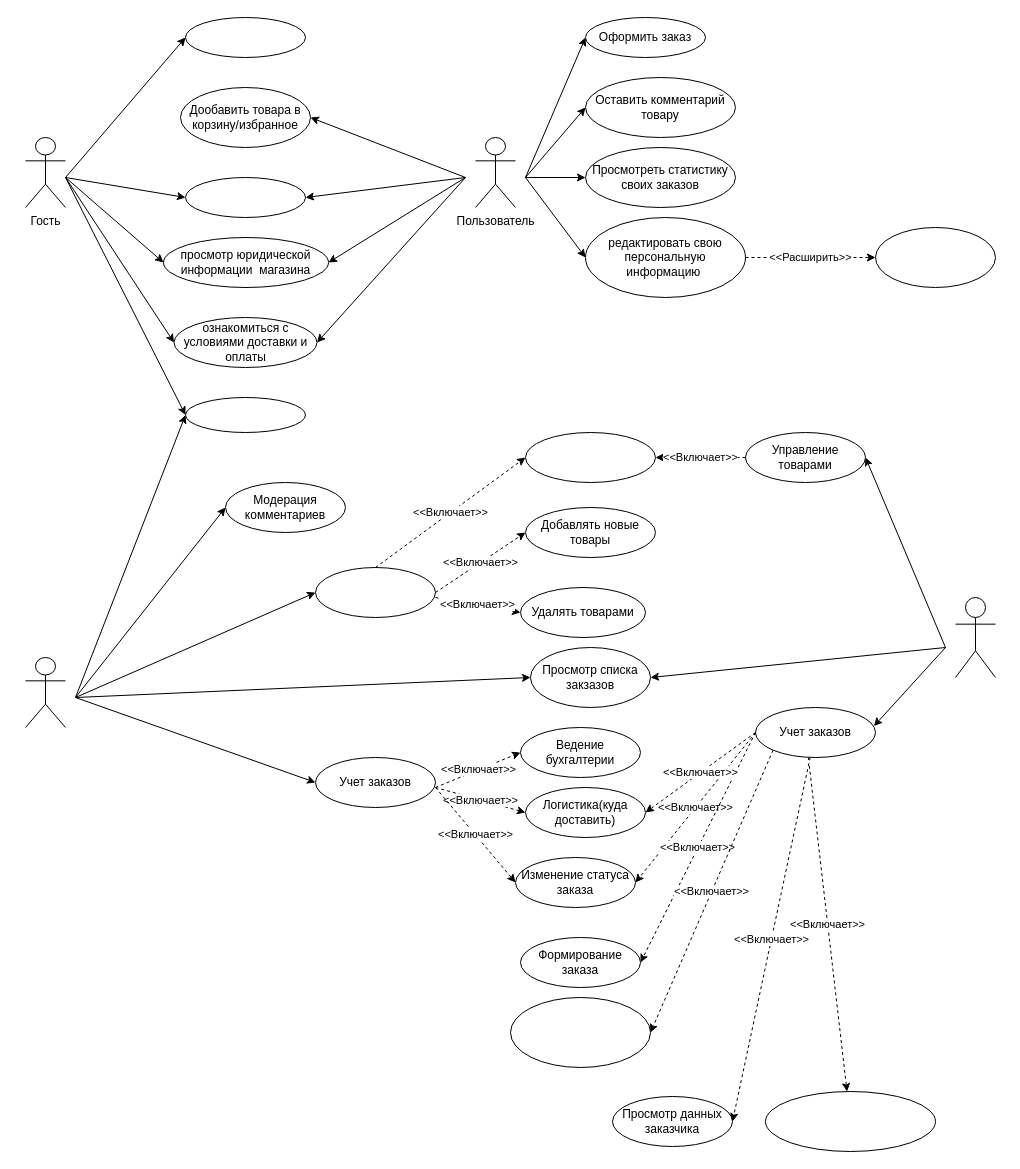
Image size: 1020x1169. Some labels were removed from this diagram. Here are the shapes that lost their labels. From the top down, the centre of each, then its label:
the point at 245,37: Регистрация
the point at 245,197: Простмотр товара
the point at 935,257: изменить пароль
the point at 245,414: Авторизация
the point at 590,457: Редактировать товары
the point at 375,592: Управление товары
the point at 975,637: Продавец
the point at 45,692: Владелец
the point at 580,1032: Информирование пользователя(просмотр его номера)
the point at 850,1121: Подтверждение заказа и уточнение данных
